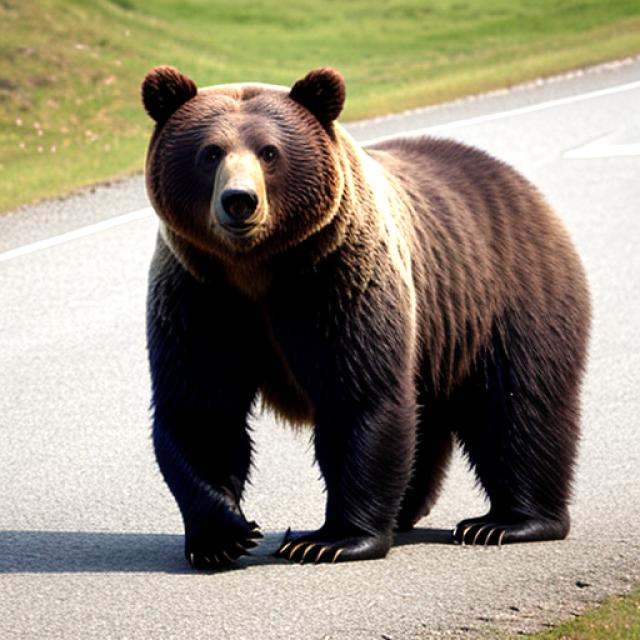bear: (147, 56, 386, 286)
